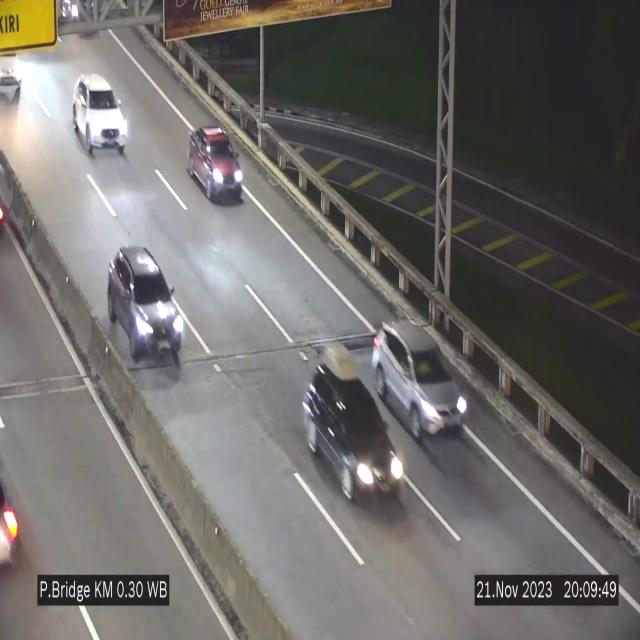Car: (302, 342, 402, 514), (372, 316, 470, 454), (108, 246, 184, 365), (73, 74, 127, 154), (187, 126, 243, 201), (1, 28, 39, 104)
